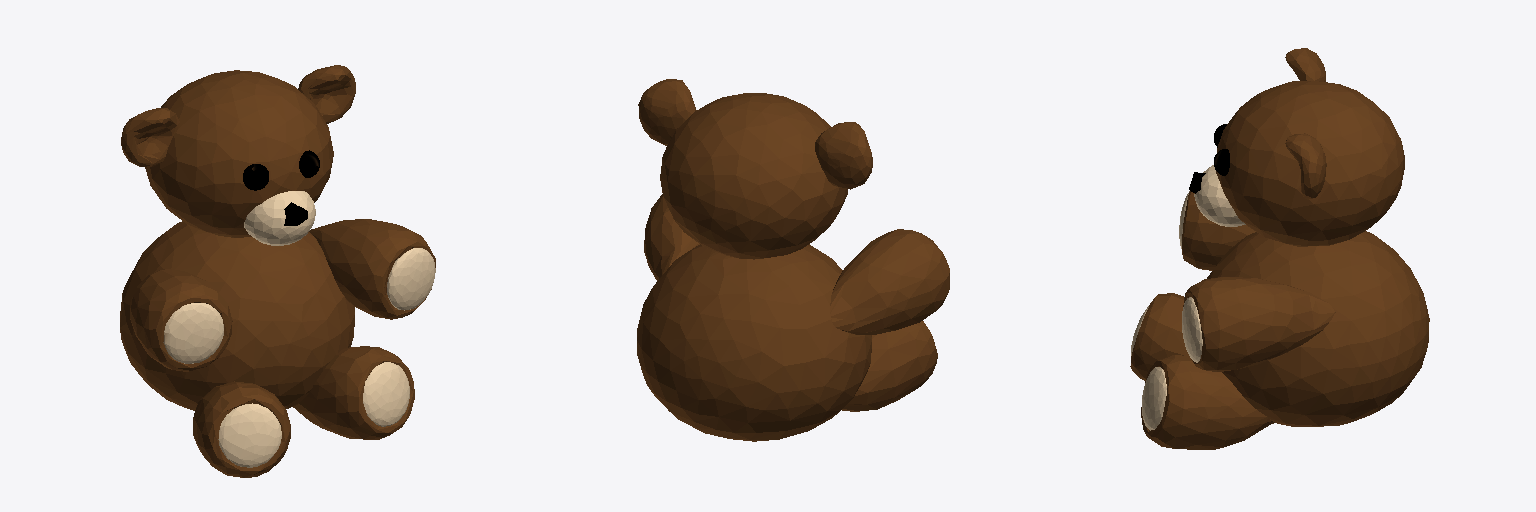
3 views of the same model, side by side, from view 1: azimuth 30°, elevation 25°; view 2: azimuth 150°, elevation 25°; view 3: azimuth 270°, elevation 25° (orthographic).
Parts seen in each view (by area): view 1: Sphere.015; view 2: Sphere.015; view 3: Sphere.015.
Boxes of the visible parts, x1,y1,x2,y2 form: Sphere.015: [120, 65, 435, 477]; Sphere.015: [637, 79, 949, 441]; Sphere.015: [1130, 48, 1429, 449].
Size of the model in its own units: 3.9 by 4.24 by 3.49.
Materials: 1 (1 with a texture image).